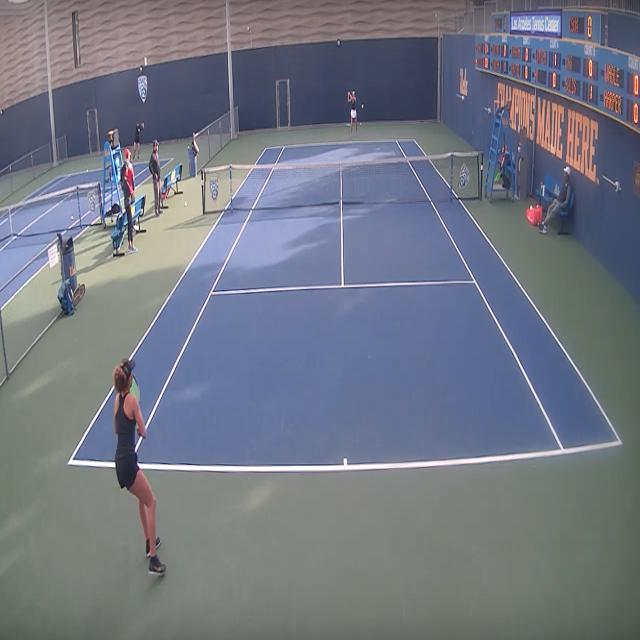ball: (184, 200, 188, 209), (139, 66, 143, 74), (361, 102, 364, 110), (71, 214, 74, 222), (359, 122, 362, 126), (86, 169, 88, 173)
